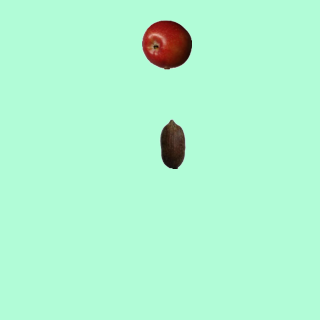Apple Braeburn: (141, 19, 191, 69)
Nut Pecan: (147, 118, 197, 168)
